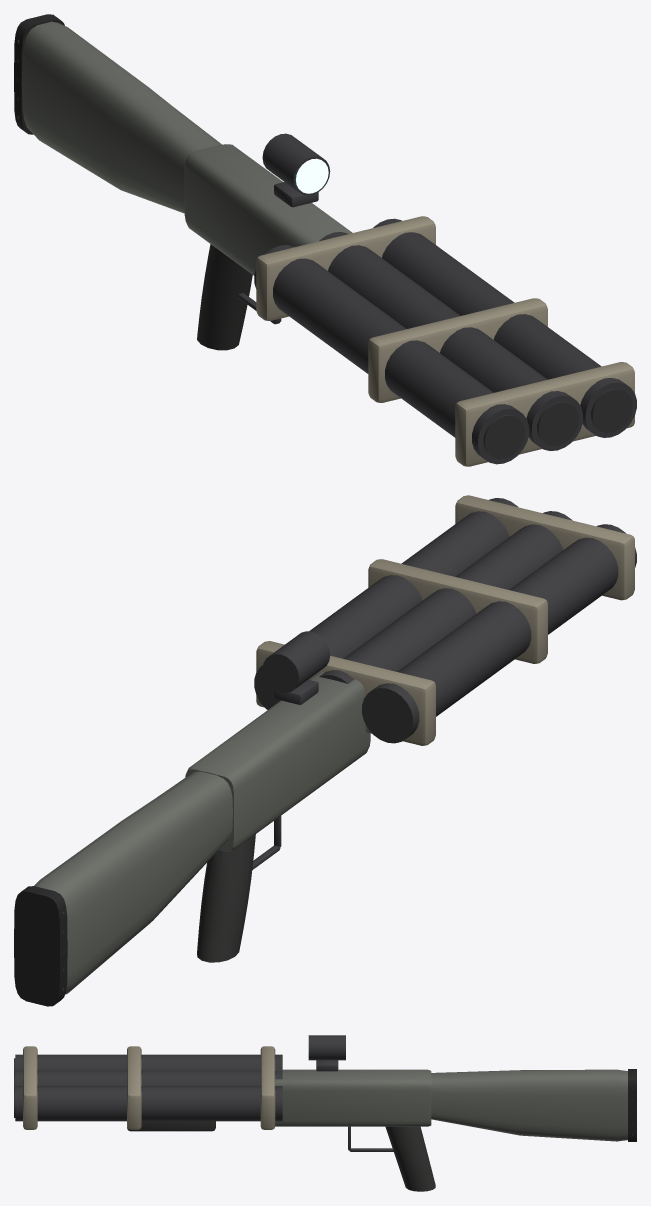
File: brute.glb
3 views of the same model, one above another, from view 1: azimuth 30°, elevation 25°; view 2: azimuth 150°, elevation 25°; view 3: azimuth 270°, elevation 25° (orthographic). The views are drawn at different scales.
Visible parts, largest first — view 1: Body; view 2: Body; view 3: Body.
Part boxes in pixels (x1,y1,x2,y2): Body: (14,14,636,466); Body: (14,495,636,1006); Body: (14,1035,636,1191).
Size of the model in its own units: 0.16 by 0.2236 by 0.839.
